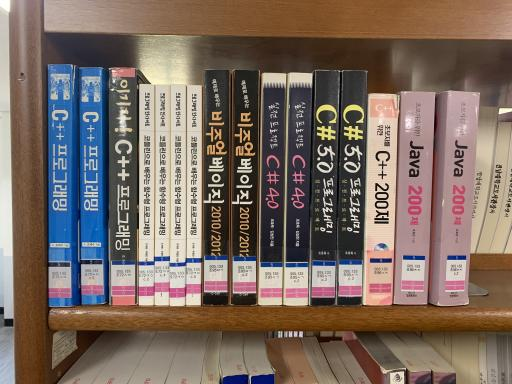book-spine: (396, 91, 436, 305), (440, 91, 479, 306), (309, 71, 340, 306), (336, 71, 367, 306), (365, 93, 398, 305), (230, 70, 259, 305), (110, 68, 138, 305), (285, 72, 313, 306), (48, 64, 75, 306), (259, 73, 286, 305), (203, 70, 229, 305), (80, 68, 105, 305), (154, 84, 169, 306), (139, 84, 154, 305), (186, 86, 201, 305), (170, 84, 184, 306)
